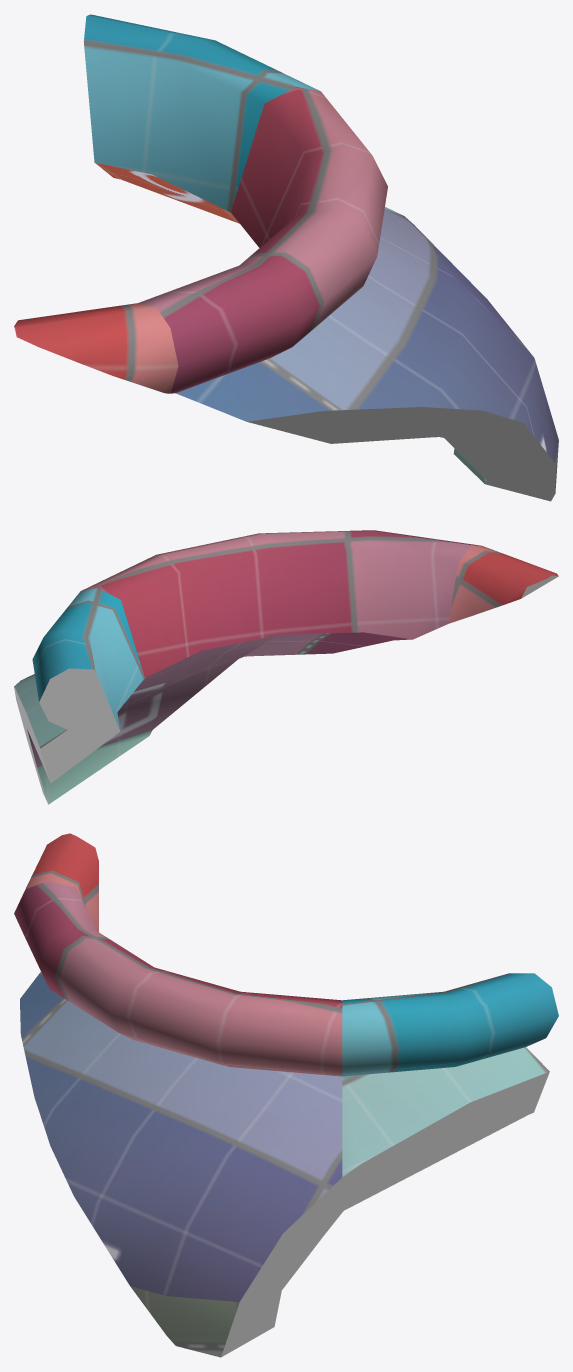
File: MediumUrn_SHAT_cell_001.fbx
3 views of the same model, one above another, from view 1: azimuth 30°, elevation 25°; view 2: azimuth 150°, elevation 25°; view 3: azimuth 270°, elevation 25° (orthographic). The views are drawn at different scales.
Visible parts, largest first — view 1: MediumUrn_SHAT_cell_001; view 2: MediumUrn_SHAT_cell_001; view 3: MediumUrn_SHAT_cell_001.
Boxes of the visible parts, <box> form: MediumUrn_SHAT_cell_001: <box>14,14,558,501</box>; MediumUrn_SHAT_cell_001: <box>14,530,558,804</box>; MediumUrn_SHAT_cell_001: <box>14,833,558,1357</box>.
Bounding box in the file's own units: 0.6837 × 0.3981 × 0.6696.
2 materials, 1 textured.
